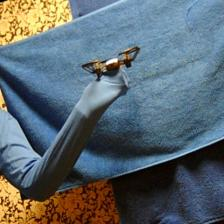drone: (82, 45, 140, 82)
